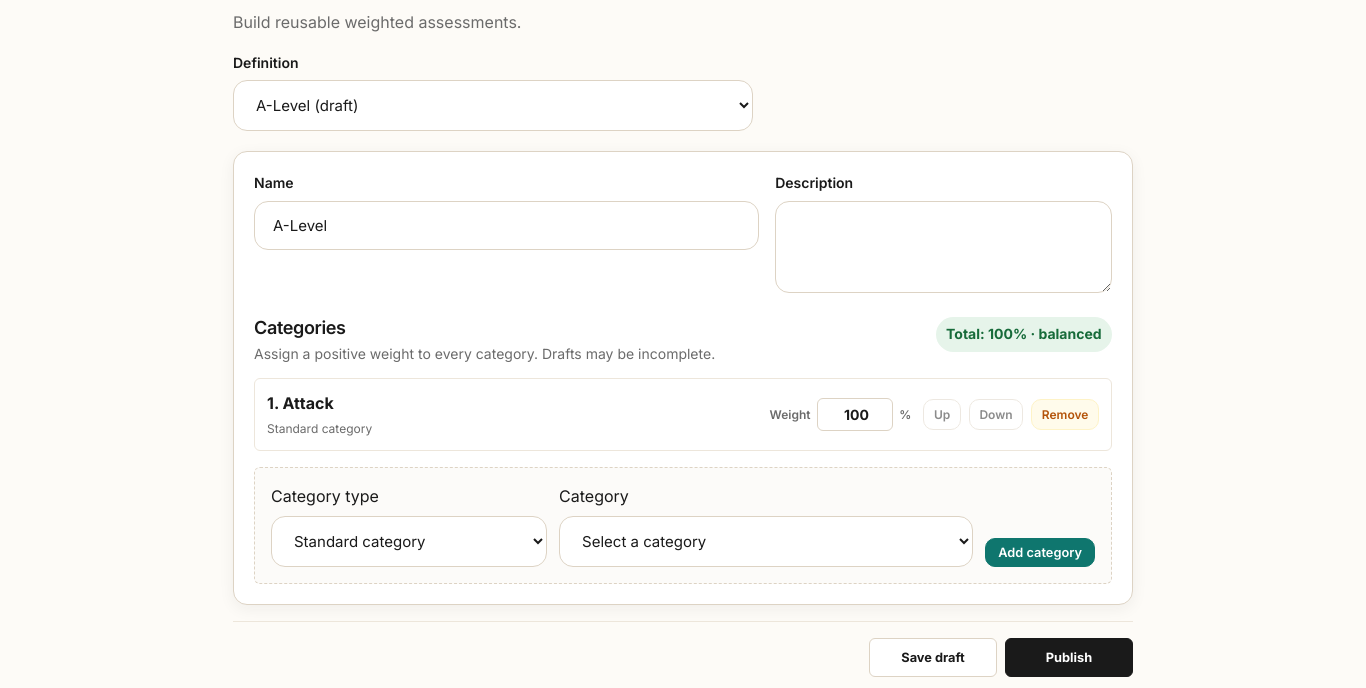
Test case: AssessmentDefinitions › says 'saved as a draft' instead of claiming a draft was published
(page scrolled)
Click the button "Save draft": (933, 657) [869, 638, 997, 677]
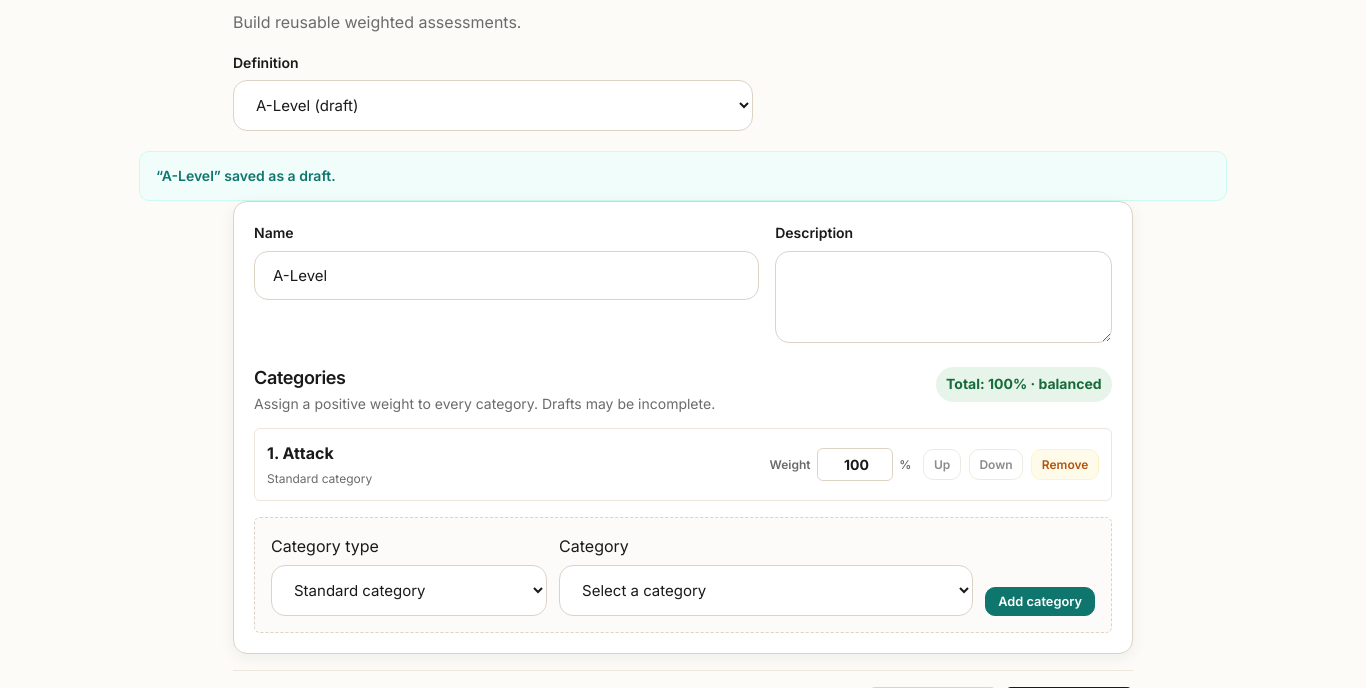
Check: the message shows "saved as a draft", box [156, 167, 336, 184]
